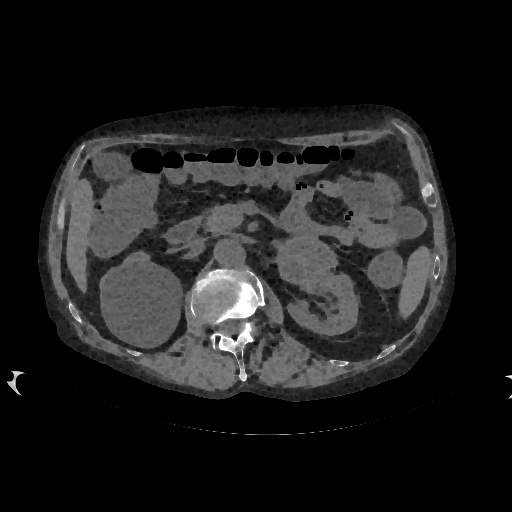Lesion: (273, 234, 339, 286)
